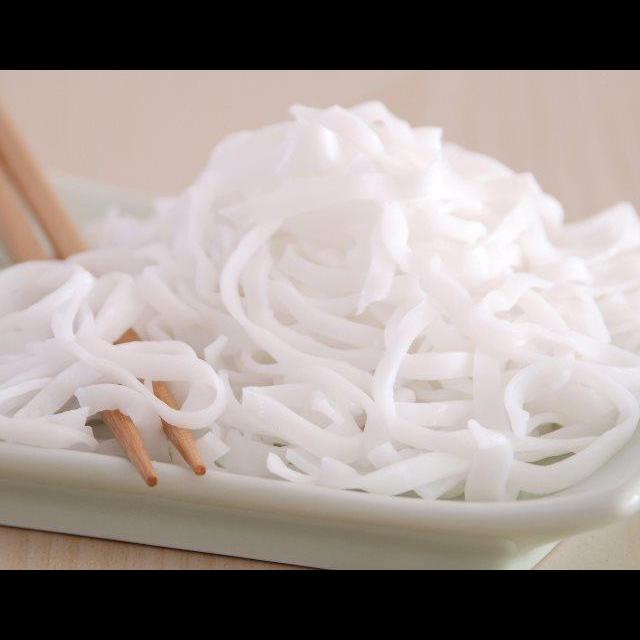banh pho: (0, 93, 640, 512)
